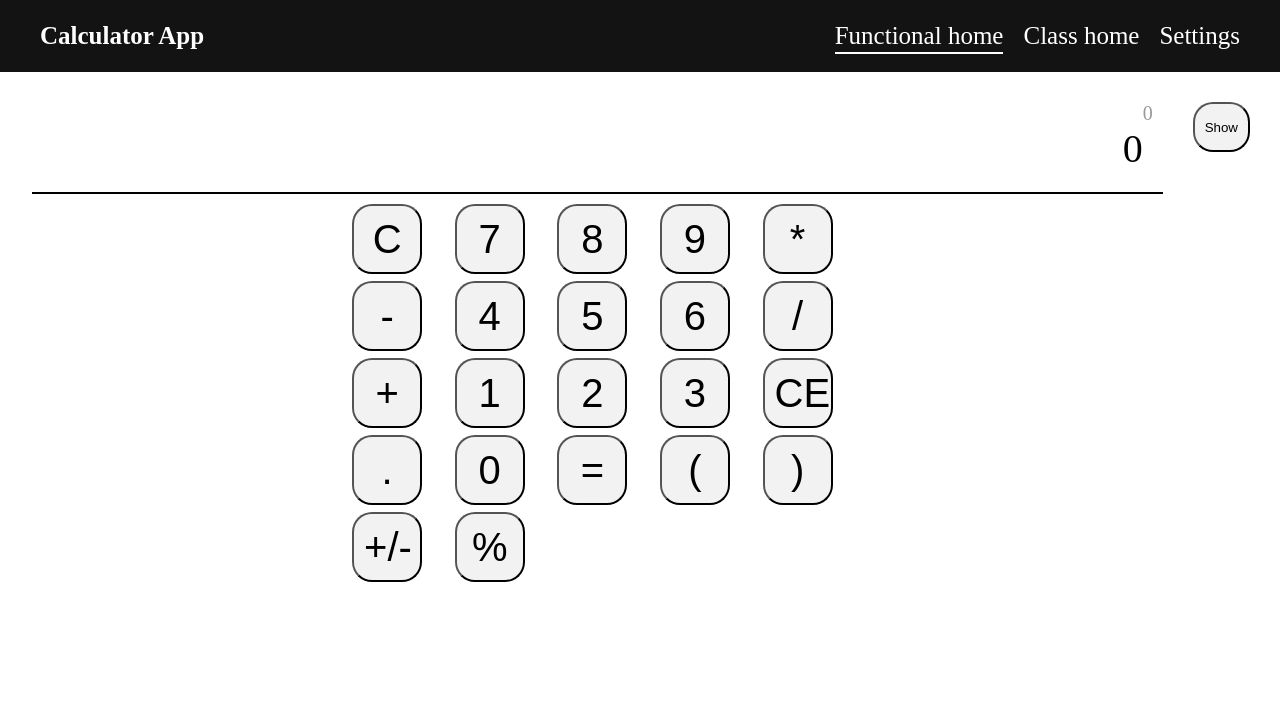
Test: checkArithmetical › basicMultiplicationTest
Click the button "3".
click(695, 393)  # box x1=660 y1=358 x2=730 y2=428
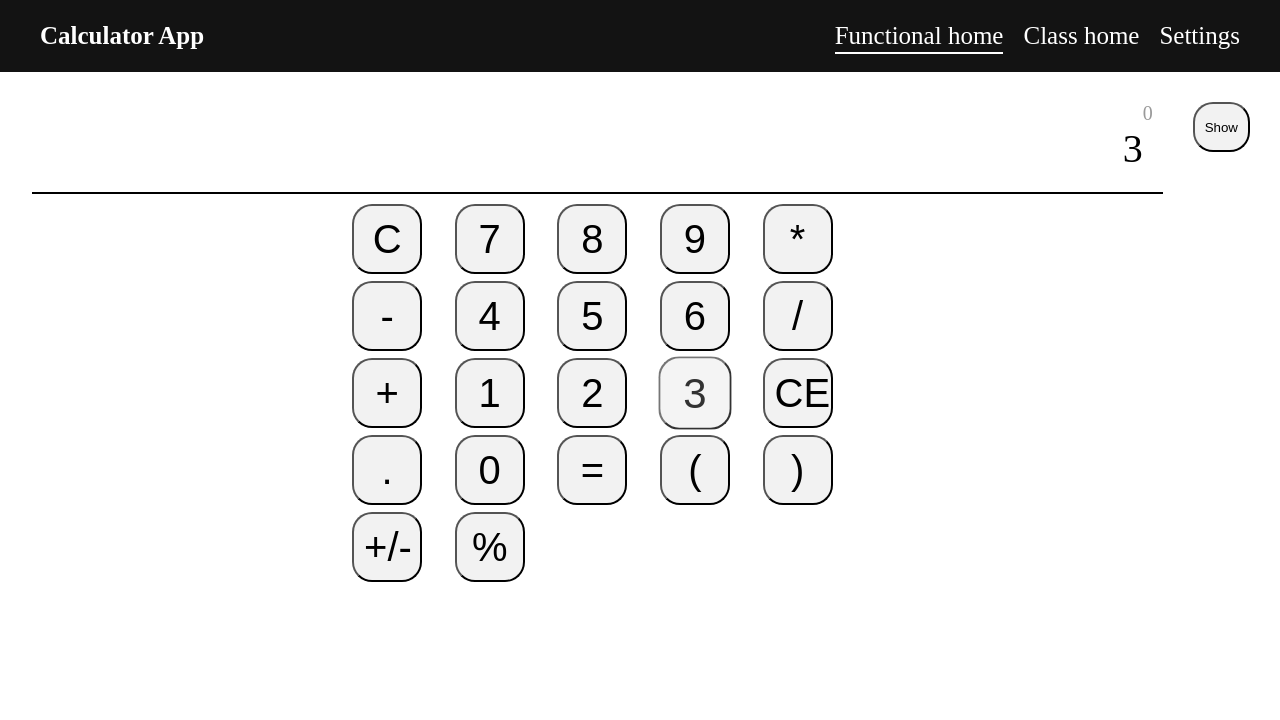
Click the button "*".
click(798, 239)  # box x1=763 y1=204 x2=833 y2=274
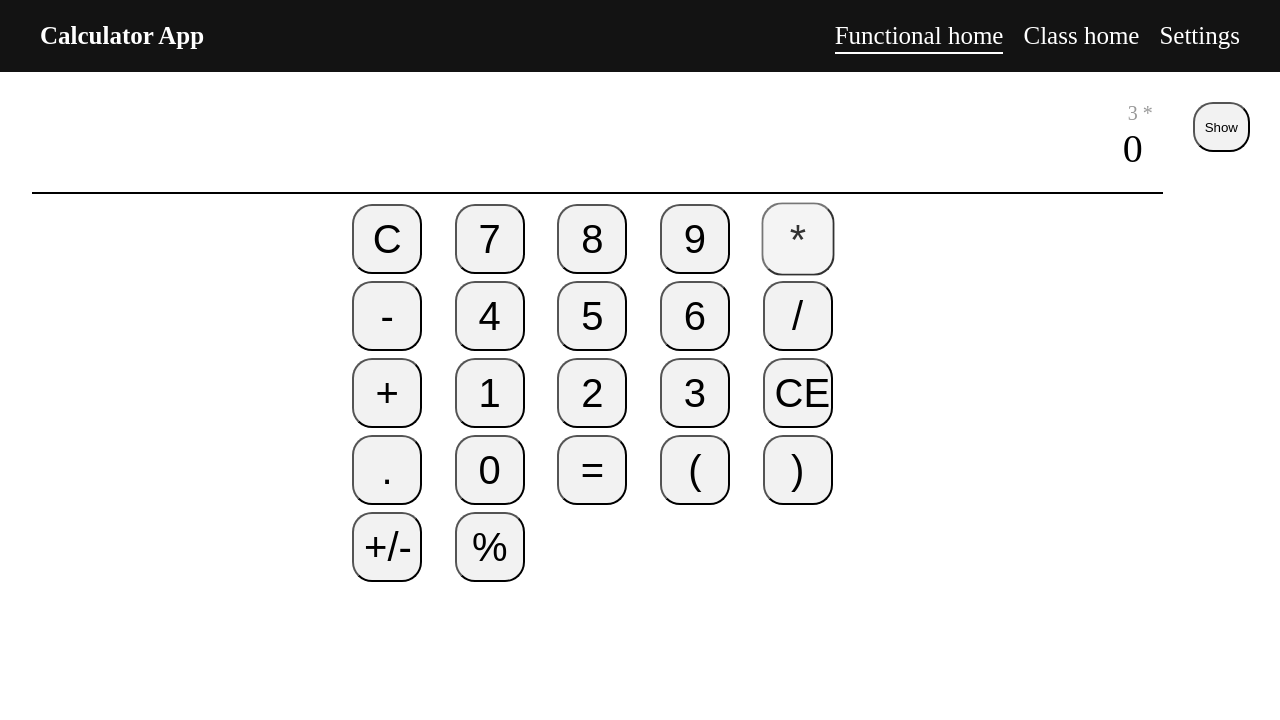
Click the button "2".
click(592, 393)  # box x1=557 y1=358 x2=627 y2=428
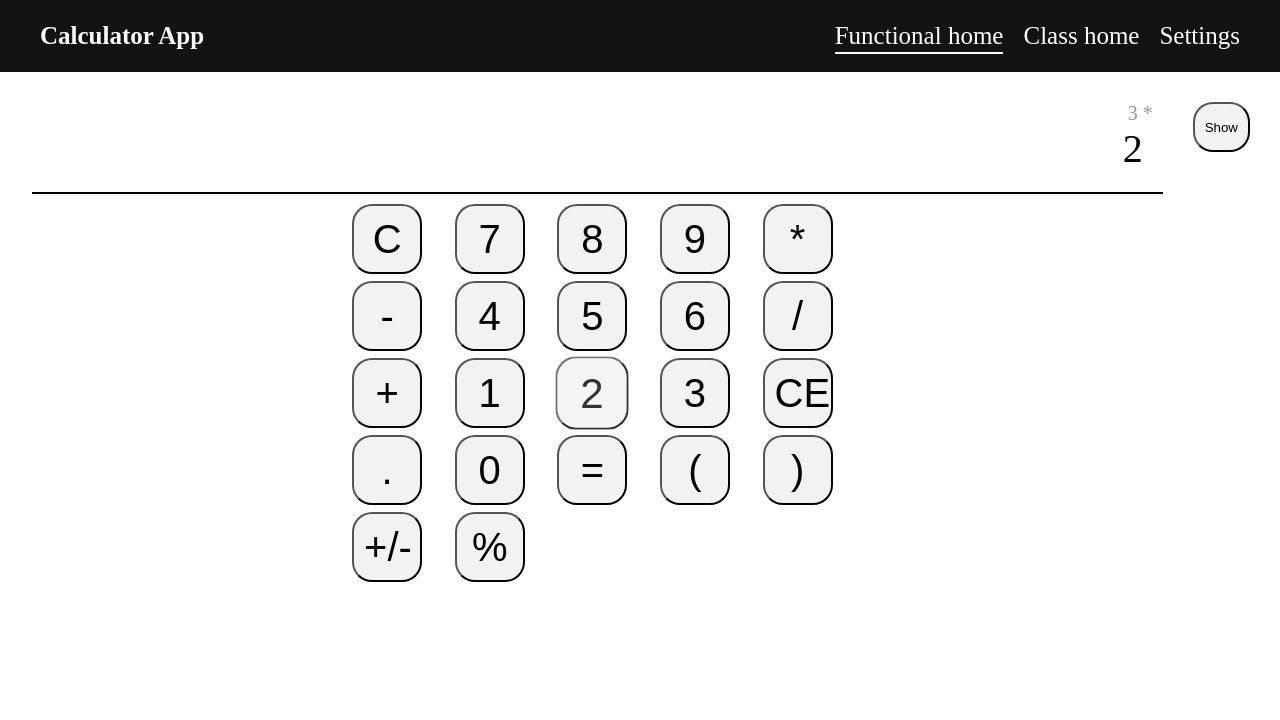
Click the button "=".
click(592, 470)  # box x1=557 y1=435 x2=627 y2=505
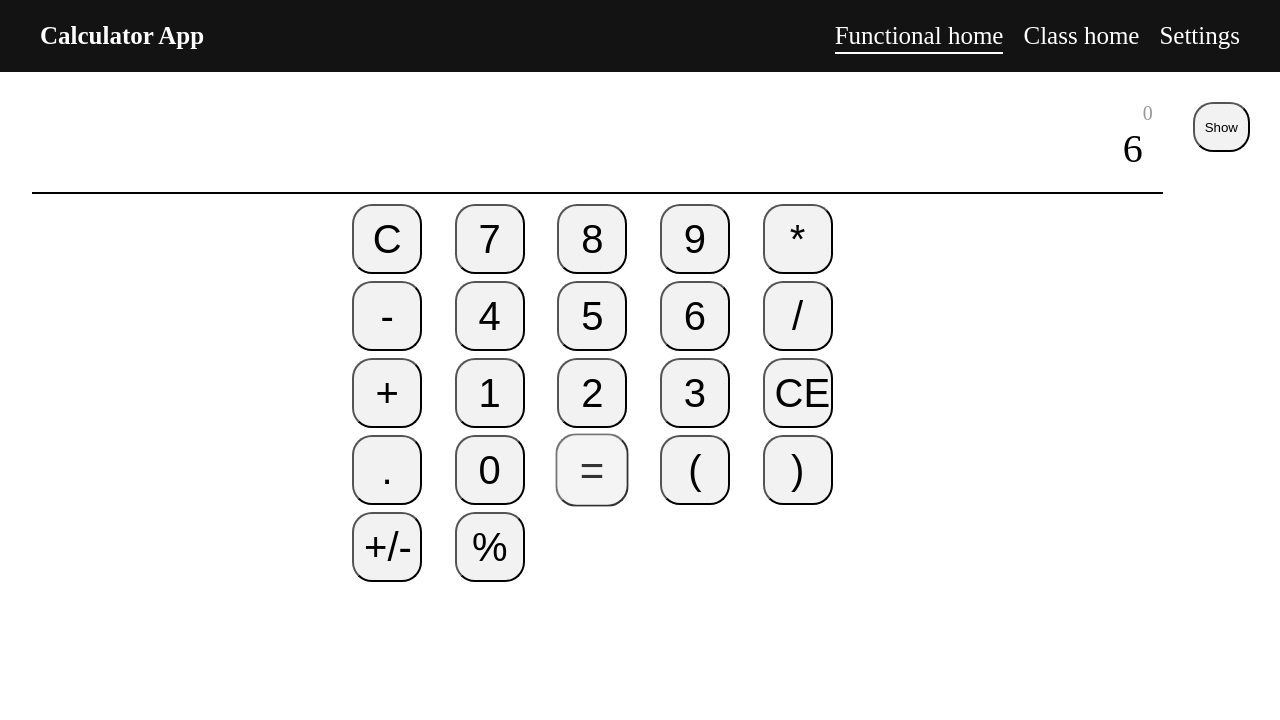
Expected: the text with id "expression" reads "6", x1=1123 y1=126 x2=1143 y2=171
